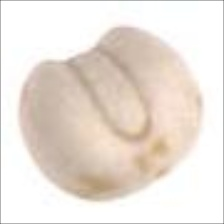L5: (64, 43, 158, 147), (99, 162, 176, 207)
L6: (16, 25, 210, 207)
